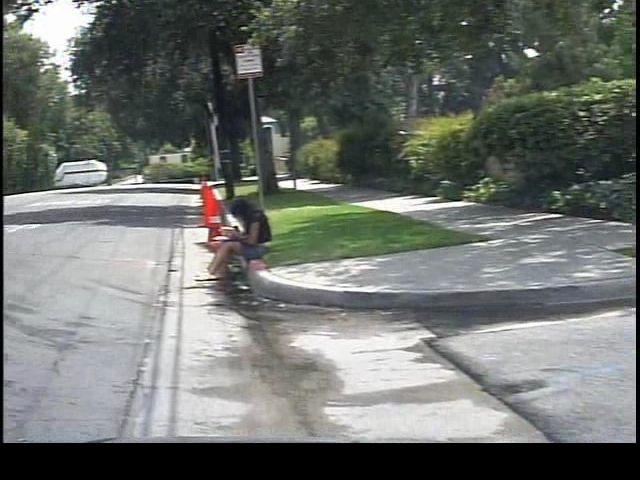person: (183, 193, 270, 284)
